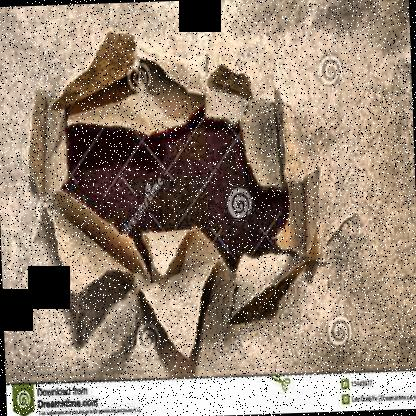defect parcel: (6, 22, 355, 364)
